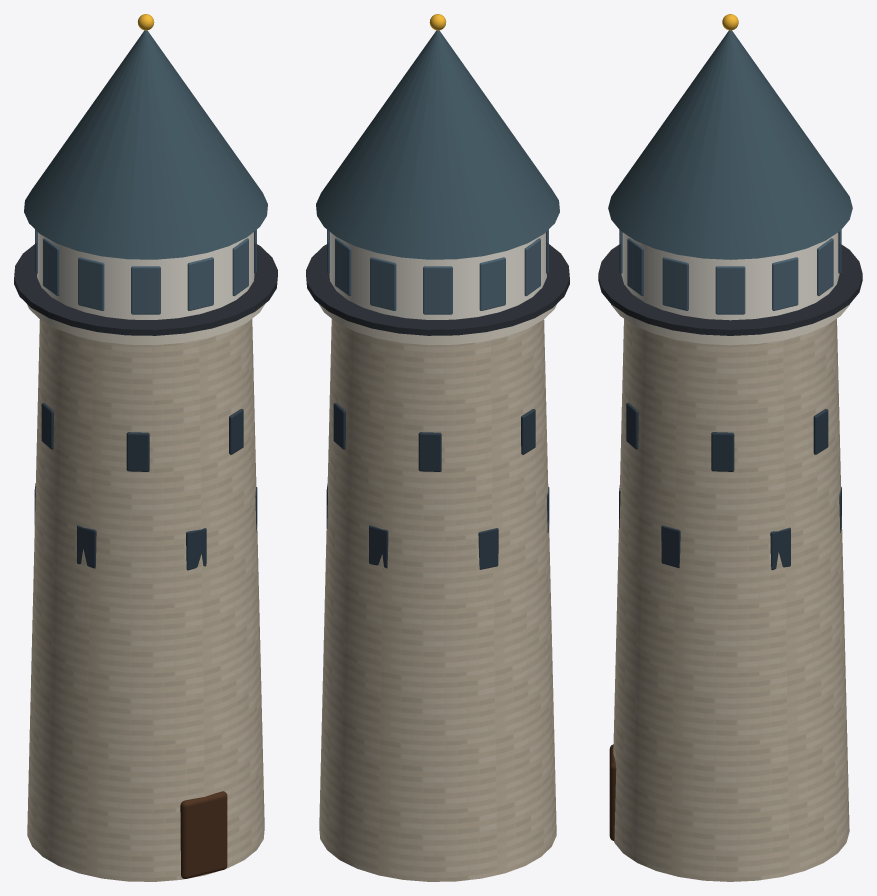
The model's file is kule.glb.
The picture shows the model from 3 angles, left to right: view 1: azimuth 30°, elevation 25°; view 2: azimuth 150°, elevation 25°; view 3: azimuth 270°, elevation 25°; orthographic projection.
Visible parts, largest first — view 1: marti-kulesi; view 2: marti-kulesi; view 3: marti-kulesi.
Part boxes in pixels (x1,y1,x2,y2): marti-kulesi: (14,14,277,881); marti-kulesi: (306,14,569,881); marti-kulesi: (598,14,862,881).
Bounding box in the file's own units: 8 × 27.25 × 8.
Materials: 9 (1 with a texture image).
